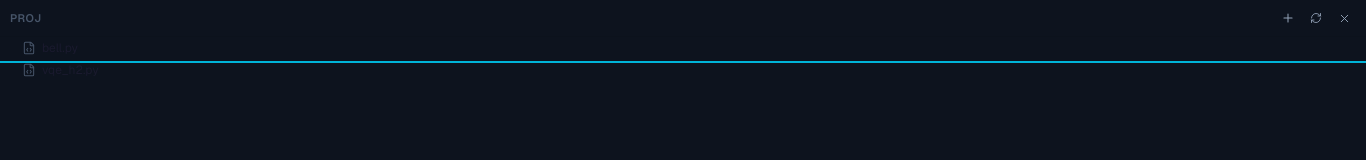
Scenario: FileExplorer rename (r7-research-02/03) › reports a failed rename inline instead of silently closing
Press F2 in the list item "bell.py", box [22,40,78,56]
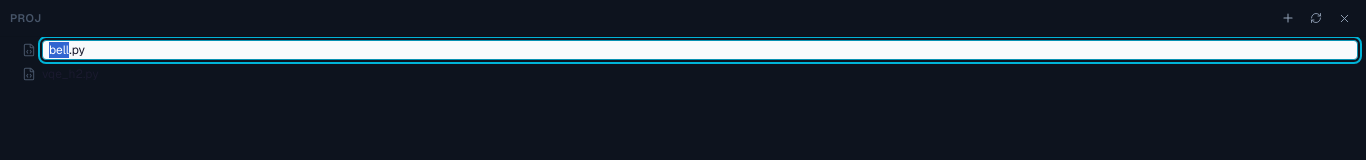
Replace the text in the field named "Rename bell.py" with "ghz.py": (700, 50) [42,40,1358,60]
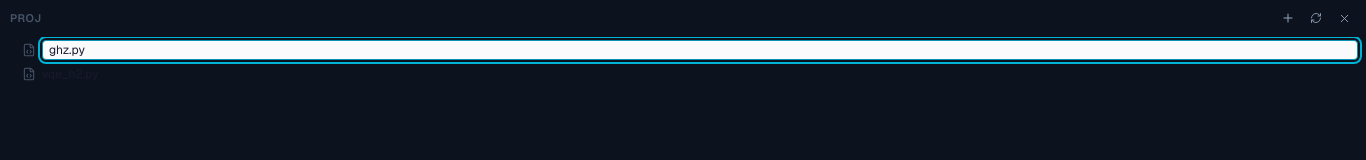
Press Enter in the field named "Rename bell.py", box [42,40,1358,60]
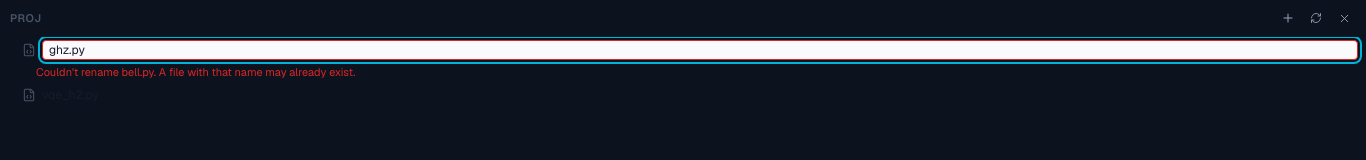
Expected: the message shows "Couldn't rename bell.py", [36,65,356,79]
